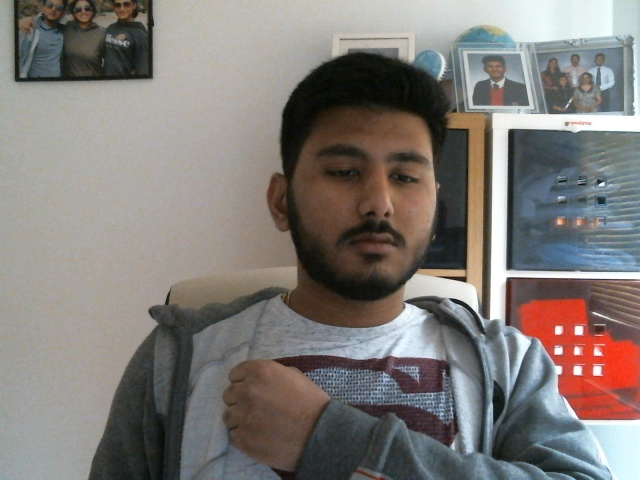morning: (222, 358, 304, 464)
